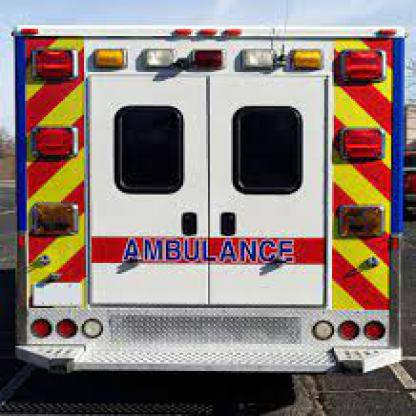van: (10, 18, 404, 385)
